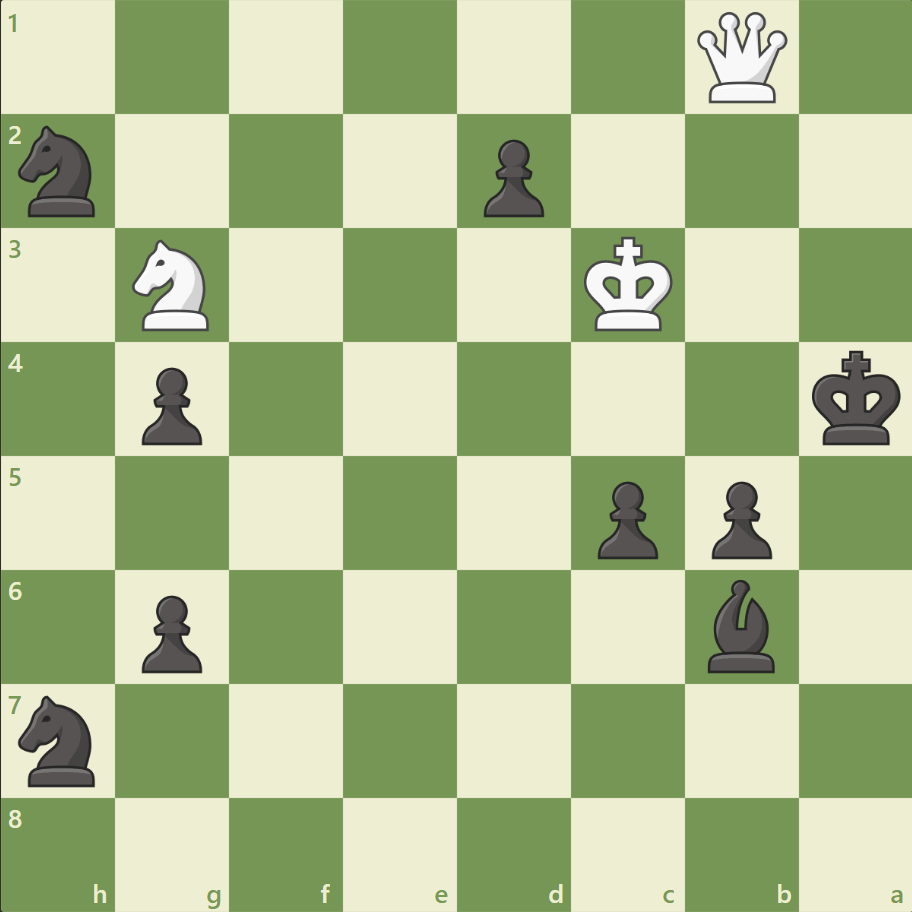K: (579, 231, 679, 339)
N: (124, 234, 222, 337)
Q: (691, 9, 790, 108)
b: (698, 574, 782, 676)
k: (806, 344, 906, 452)
n: (11, 688, 108, 791), (11, 121, 108, 223)
p: (133, 586, 208, 677), (701, 473, 776, 564), (133, 359, 208, 450), (474, 132, 549, 223), (588, 473, 662, 564)
